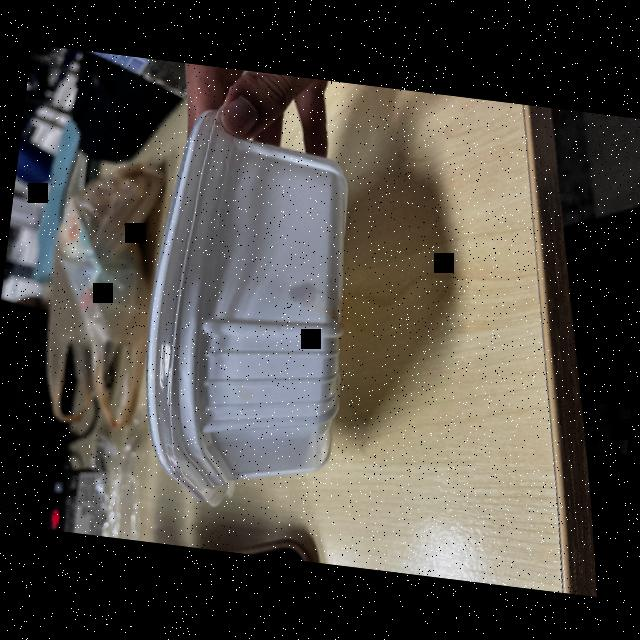plastic_box: (128, 85, 384, 529)
